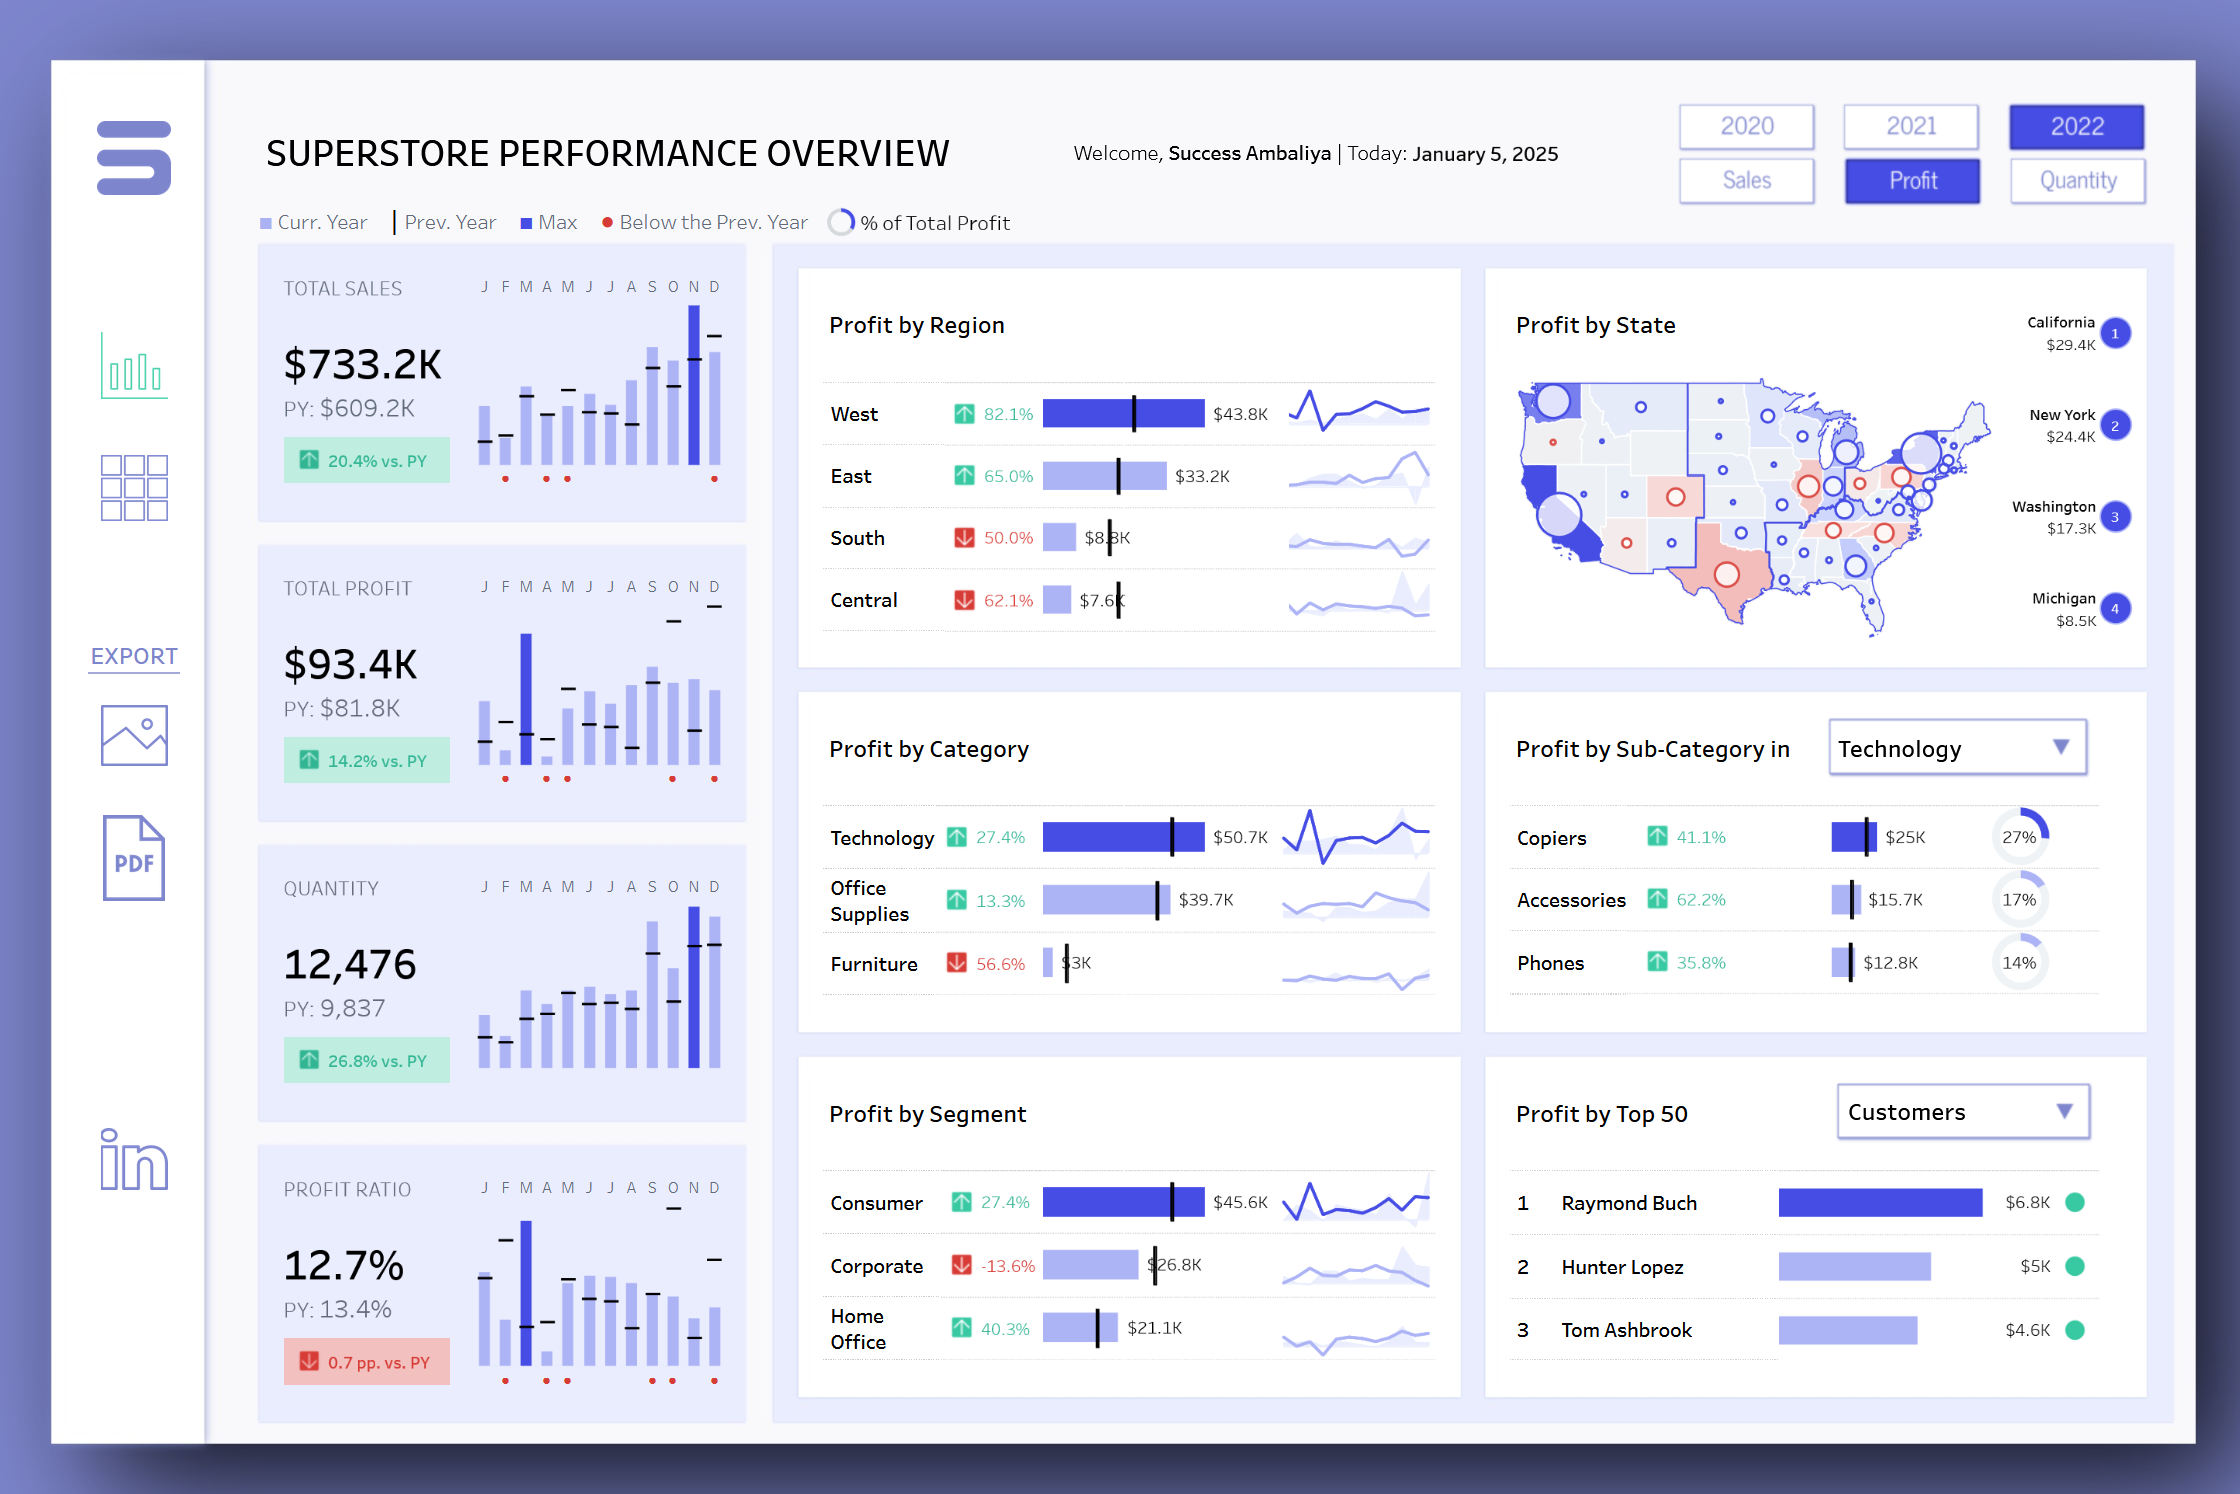

The page's visual inventory and layout, read from the dashboard file:
{"tool":"tableau","page":{"name":"Overview","canvas":[1850,1230],"ordinal":1},"visuals":[{"type":"image","param":"Image/Dashboard Background 1.png","box":[0,0,1850,1230]},{"type":"image","param":"Image/logo.png","box":[70,80,95,100]},{"type":"worksheet","title":"button-year","mark":"Shape","cols":["Calculation_4694721161135210497"],"box":[1367,80,404,50]},{"type":"text","box":[225,100,875,50]},{"type":"text","box":[500,100,660,50]},{"type":"worksheet","title":"today","mark":"Circle","cols":["Calculation_1058064463116718104"],"box":[1155,100,225,50]},{"type":"worksheet","title":"button-param","mark":"Shape","cols":["ID (buttons_navbar.csv)"],"box":[1367,124,404,50]},{"type":"text","box":[219,165,650,30]},{"type":"worksheet","title":"leg_donut","mark":"Shape","cols":["Calculation_1058064463116718104","Calculation_1058064463116718104"],"box":[673,170,200,25]},{"type":"blank","box":[70,180,95,70]},{"type":"worksheet","title":"ban-s","mark":"Automatic","rows":["Calculation_1020628293906771971","Calculation_1020628293906739202"],"cols":["Calculation_1058064463116718104"],"box":[223,205,151,143]},{"type":"worksheet","title":"trend-s","mark":"Line","rows":["Calculation_5371949955380088837","Sales_in_Year_Selected (copy)_5371949955380690950"],"cols":["Order Date","● Profit (copy)_1006273070129078277"],"box":[395,225,205,178]},{"type":"worksheet","title":"top-states","mark":"Circle","rows":["State/Province"],"cols":["Calculation_1058064463116718104","Calculation_1058064463116718104"],"box":[1610,236,144,299]},{"type":"text","box":[685,246,479,38]},{"type":"text","box":[1245,246,479,38]},{"type":"dashboard-object","box":[70,250,95,100]},{"type":"worksheet","title":"map","mark":"Automatic","box":[1228,293,424,245]},{"type":"worksheet","title":"reg-1","mark":"Shape","rows":["Region"],"cols":["Calculation_1058064463116718104"],"box":[680,313,180,204]},{"type":"worksheet","title":"reg-3","mark":"Line","rows":["Region"],"cols":["CY Sales (copy)_1064819864314937381","PY Sales (copy)_1064819864315519014"],"box":[860,313,200,204]},{"type":"worksheet","title":"reg-2","mark":"Line","rows":["Region","PY Sales (copy)_1064819864315519014","CY Sales (copy)_1064819864314937381"],"cols":["Order Date"],"box":[1050,313,140,204]},{"type":"dashboard-object","box":[70,350,95,100]},{"type":"worksheet","title":"ban%-s","mark":"Automatic","cols":["Calculation_1058064463115907093","Calculation_1020628293919162381"],"box":[240,358,135,38]},{"type":"blank","box":[70,450,95,70]},{"type":"worksheet","title":"ban-p","mark":"Automatic","rows":["Calculation_1020628293906771971","Calculation_1020628293906739202"],"cols":["Calculation_1058064463116718104"],"box":[223,450,151,143]},{"type":"worksheet","title":"trend-p","mark":"Line","rows":["CY Sales (copy)_977562619094982657","PY Sales (copy)_977562619095048194"],"cols":["Order Date","Calculation_1006273070124412932"],"box":[395,470,205,178]},{"type":"text","box":[70,520,95,30]},{"type":"legend","title":"leg_donut","param":"[federated.0wvzge50wbkv101eeono31ji9hpq].[:Measure Names]","box":[80,550,75,2]},{"type":"dashboard-object","box":[70,552,95,100]},{"type":"worksheet","title":"dropdown-subcat","mark":"Shape","box":[1495,577,223,68]},{"type":"text","box":[1500,588,213,46]},{"type":"worksheet","title":"dropdown-subcat-blank","mark":"Shape","box":[1503,589,208,43]},{"type":"text","box":[685,592,479,38]},{"type":"text","box":[1245,592,479,38]},{"type":"worksheet","title":"ban%-p","mark":"Automatic","cols":["Calculation_1058064463115907093","Calculation_1020628293919162381"],"box":[240,603,135,38]},{"type":"worksheet","title":"dropdown-subcat-list","mark":"Automatic","rows":["ID (dropdown_category.csv)"],"box":[1501,635,211,160]},{"type":"dashboard-object","box":[70,652,95,100]},{"type":"worksheet","title":"cat-1","mark":"Shape","rows":["Category"],"cols":["Calculation_1058064463116718104"],"box":[680,659,180,155]},{"type":"worksheet","title":"cat-3","mark":"Line","rows":["Category"],"cols":["CY Sales (copy)_1064819864314937381","PY Sales (copy)_1064819864315519014"],"box":[860,659,200,155]},{"type":"worksheet","title":"cat-2","mark":"Line","rows":["Category","PY Sales (copy)_1064819864315519014","CY Sales (copy)_1064819864314937381"],"cols":["Order Date"],"box":[1050,659,140,155]},{"type":"worksheet","title":"subcategories","mark":"Shape","rows":["Sub-Category"],"cols":["Calculation_1058064463116718104","CY Sales (copy)_1064819864314937381","PY Sales (copy)_1064819864315519014","Calculation_1058064463115907093","Calculation_1058064463115907093"],"box":[1240,659,500,155]},{"type":"worksheet","title":"ban-q","mark":"Automatic","rows":["Calculation_1020628293906771971","Calculation_1020628293906739202"],"cols":["Calculation_1058064463116718104"],"box":[223,695,151,143]},{"type":"worksheet","title":"trend-q","mark":"Line","rows":["CY Profit (copy)_1006273070147854347","CY Quantity (copy)_1006273070147936268"],"cols":["Order Date","● Profit (copy)_1006273070148202509"],"box":[395,715,205,178]},{"type":"blank","box":[70,752,95,70]},{"type":"image","param":"Image/linkedin.png","box":[70,822,95,252]},{"type":"worksheet","title":"ban%-q","mark":"Automatic","cols":["Calculation_1058064463115907093","Calculation_1020628293919162381"],"box":[240,848,135,38]},{"type":"worksheet","title":"dropdown-top","mark":"Shape","box":[1505,880,211,58]},{"type":"text","box":[1508,887,204,42]},{"type":"worksheet","title":"dropdown-top-blank","mark":"Shape","box":[1508,887,204,42]},{"type":"text","box":[685,890,479,38]},{"type":"text","box":[1245,890,479,38]},{"type":"worksheet","title":"dropdown-top-list","mark":"Automatic","rows":["ID"],"box":[1506,932,208,117]},{"type":"worksheet","title":"ban-r","mark":"Automatic","rows":["Calculation_1020628293906771971","Calculation_1020628293906739202"],"cols":["Calculation_1058064463116718104"],"box":[223,941,151,143]},{"type":"worksheet","title":"seg-1","mark":"Shape","rows":["Segment"],"cols":["Calculation_1058064463116718104"],"box":[680,957,180,155]},{"type":"worksheet","title":"seg-3","mark":"Line","rows":["Segment"],"cols":["CY Sales (copy)_1064819864314937381","PY Sales (copy)_1064819864315519014"],"box":[860,957,200,155]},{"type":"worksheet","title":"seg-2","mark":"Line","rows":["Segment","PY Sales (copy)_1064819864315519014","CY Sales (copy)_1064819864314937381"],"cols":["Order Date"],"box":[1050,957,140,155]},{"type":"worksheet","title":"top-50","mark":"Bar","rows":["Calculation_1064819864244207623","Calculation_1064819864285368341"],"cols":["CY Sales (copy)_1064819864314937381","Top N Selection (copy)_1064819864250023948"],"box":[1240,957,500,155]},{"type":"worksheet","title":"trend-r","mark":"Line","rows":["Calculation_977562619098193929","Profit Ratio CY (copy)_977562619098456074"],"cols":["Order Date","● Profit (copy)_1006273070172762135"],"box":[395,961,205,178]},{"type":"blank","box":[70,1074,95,86]},{"type":"worksheet","title":"ban%-r","mark":"Automatic","cols":["Calculation_1058064463115907093","Calculation_1020628293919162381"],"box":[240,1094,135,38]}]}

Visuals, with their boxes on the page's 1850x1230 design canvas (x1, y1, x2, y2). These are canvas units, not pixel positions in the 2240x1494 screenshot, which may show the page scaled, cropped or inside an application window:
image: {"left": 0, "top": 0, "right": 1850, "bottom": 1230}
image: {"left": 70, "top": 80, "right": 165, "bottom": 180}
"button-year" worksheet (Shape marks): {"left": 1367, "top": 80, "right": 1771, "bottom": 130}
text: {"left": 225, "top": 100, "right": 1100, "bottom": 150}
text: {"left": 500, "top": 100, "right": 1160, "bottom": 150}
"today" worksheet (Circle marks): {"left": 1155, "top": 100, "right": 1380, "bottom": 150}
"button-param" worksheet (Shape marks): {"left": 1367, "top": 124, "right": 1771, "bottom": 174}
text: {"left": 219, "top": 165, "right": 869, "bottom": 195}
"leg_donut" worksheet (Shape marks): {"left": 673, "top": 170, "right": 873, "bottom": 195}
blank: {"left": 70, "top": 180, "right": 165, "bottom": 250}
"ban-s" worksheet: {"left": 223, "top": 205, "right": 374, "bottom": 348}
"trend-s" worksheet (Line marks): {"left": 395, "top": 225, "right": 600, "bottom": 403}
"top-states" worksheet (Circle marks): {"left": 1610, "top": 236, "right": 1754, "bottom": 535}
text: {"left": 685, "top": 246, "right": 1164, "bottom": 284}
text: {"left": 1245, "top": 246, "right": 1724, "bottom": 284}
dashboard-object: {"left": 70, "top": 250, "right": 165, "bottom": 350}
"map" worksheet: {"left": 1228, "top": 293, "right": 1652, "bottom": 538}
"reg-1" worksheet (Shape marks): {"left": 680, "top": 313, "right": 860, "bottom": 517}
"reg-3" worksheet (Line marks): {"left": 860, "top": 313, "right": 1060, "bottom": 517}
"reg-2" worksheet (Line marks): {"left": 1050, "top": 313, "right": 1190, "bottom": 517}
dashboard-object: {"left": 70, "top": 350, "right": 165, "bottom": 450}
"ban%-s" worksheet: {"left": 240, "top": 358, "right": 375, "bottom": 396}
blank: {"left": 70, "top": 450, "right": 165, "bottom": 520}
"ban-p" worksheet: {"left": 223, "top": 450, "right": 374, "bottom": 593}
"trend-p" worksheet (Line marks): {"left": 395, "top": 470, "right": 600, "bottom": 648}
text: {"left": 70, "top": 520, "right": 165, "bottom": 550}
"leg_donut" legend: {"left": 80, "top": 550, "right": 155, "bottom": 552}
dashboard-object: {"left": 70, "top": 552, "right": 165, "bottom": 652}
"dropdown-subcat" worksheet (Shape marks): {"left": 1495, "top": 577, "right": 1718, "bottom": 645}
text: {"left": 1500, "top": 588, "right": 1713, "bottom": 634}
"dropdown-subcat-blank" worksheet (Shape marks): {"left": 1503, "top": 589, "right": 1711, "bottom": 632}
text: {"left": 685, "top": 592, "right": 1164, "bottom": 630}
text: {"left": 1245, "top": 592, "right": 1724, "bottom": 630}
"ban%-p" worksheet: {"left": 240, "top": 603, "right": 375, "bottom": 641}
"dropdown-subcat-list" worksheet: {"left": 1501, "top": 635, "right": 1712, "bottom": 795}
dashboard-object: {"left": 70, "top": 652, "right": 165, "bottom": 752}
"cat-1" worksheet (Shape marks): {"left": 680, "top": 659, "right": 860, "bottom": 814}
"cat-3" worksheet (Line marks): {"left": 860, "top": 659, "right": 1060, "bottom": 814}
"cat-2" worksheet (Line marks): {"left": 1050, "top": 659, "right": 1190, "bottom": 814}
"subcategories" worksheet (Shape marks): {"left": 1240, "top": 659, "right": 1740, "bottom": 814}
"ban-q" worksheet: {"left": 223, "top": 695, "right": 374, "bottom": 838}
"trend-q" worksheet (Line marks): {"left": 395, "top": 715, "right": 600, "bottom": 893}
blank: {"left": 70, "top": 752, "right": 165, "bottom": 822}
image: {"left": 70, "top": 822, "right": 165, "bottom": 1074}
"ban%-q" worksheet: {"left": 240, "top": 848, "right": 375, "bottom": 886}
"dropdown-top" worksheet (Shape marks): {"left": 1505, "top": 880, "right": 1716, "bottom": 938}
text: {"left": 1508, "top": 887, "right": 1712, "bottom": 929}
"dropdown-top-blank" worksheet (Shape marks): {"left": 1508, "top": 887, "right": 1712, "bottom": 929}
text: {"left": 685, "top": 890, "right": 1164, "bottom": 928}
text: {"left": 1245, "top": 890, "right": 1724, "bottom": 928}
"dropdown-top-list" worksheet: {"left": 1506, "top": 932, "right": 1714, "bottom": 1049}
"ban-r" worksheet: {"left": 223, "top": 941, "right": 374, "bottom": 1084}
"seg-1" worksheet (Shape marks): {"left": 680, "top": 957, "right": 860, "bottom": 1112}
"seg-3" worksheet (Line marks): {"left": 860, "top": 957, "right": 1060, "bottom": 1112}
"seg-2" worksheet (Line marks): {"left": 1050, "top": 957, "right": 1190, "bottom": 1112}
"top-50" worksheet (Bar marks): {"left": 1240, "top": 957, "right": 1740, "bottom": 1112}
"trend-r" worksheet (Line marks): {"left": 395, "top": 961, "right": 600, "bottom": 1139}
blank: {"left": 70, "top": 1074, "right": 165, "bottom": 1160}
"ban%-r" worksheet: {"left": 240, "top": 1094, "right": 375, "bottom": 1132}
